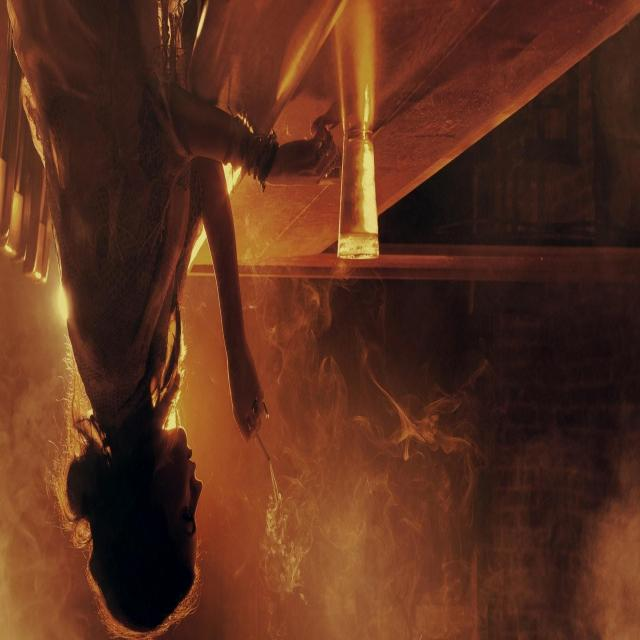smoke: (243, 394, 289, 479)
